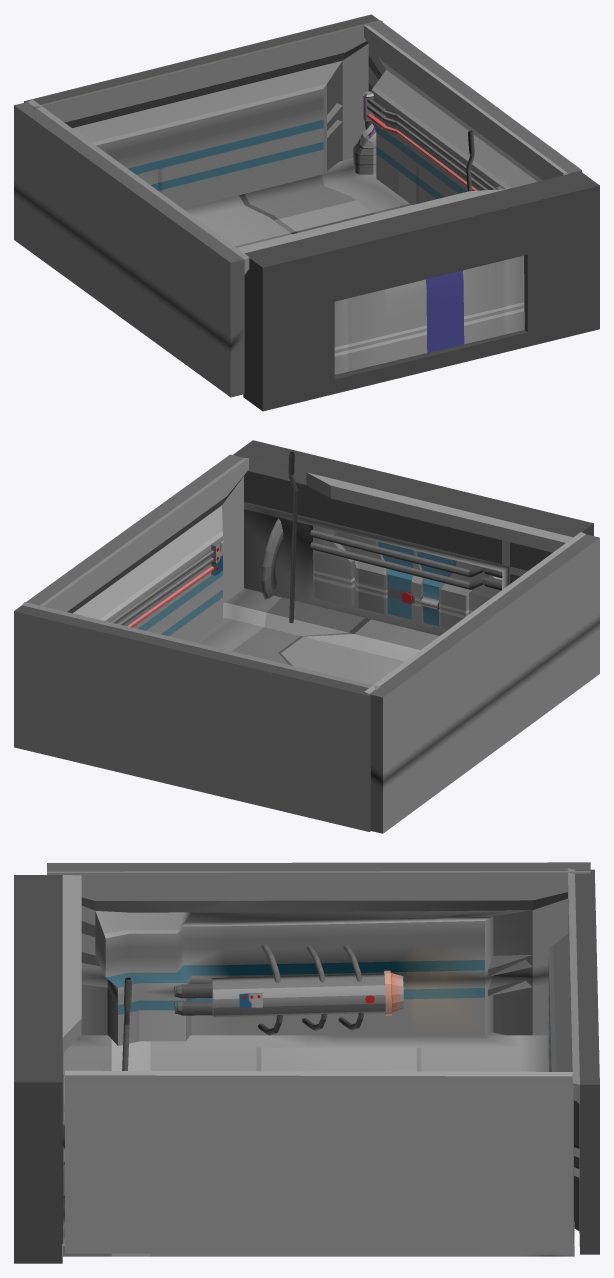
Rendered from LVL1.fbx.
3 renders of one model, top to bottom at view 1: azimuth 30°, elevation 25°; view 2: azimuth 150°, elevation 25°; view 3: azimuth 270°, elevation 25°, orthographic. The views are drawn at different scales.
Visible parts, largest first — view 1: polySurface8, pCube40, polySurface10, polySurface11, polySurface5, pCube32; view 2: pCube40, polySurface10, polySurface8, polySurface11, pCube32, polySurface5, pCube20; view 3: polySurface11, polySurface10, polySurface8, pCube32, pCube40, pCube20.
Boxes of the visible parts, <box> form: polySurface8: <box>237,171,599,411</box>; pCube40: <box>24,14,382,208</box>; polySurface10: <box>14,99,249,397</box>; polySurface11: <box>353,22,581,204</box>; polySurface5: <box>334,255,524,374</box>; pCube32: <box>183,158,411,247</box>; pCube40: <box>14,602,380,831</box>; polySurface10: <box>364,532,599,833</box>; polySurface8: <box>233,440,593,635</box>; polySurface11: <box>26,454,248,642</box>; pCube32: <box>195,588,439,684</box>; polySurface5: <box>313,525,501,630</box>; pCube20: <box>288,451,297,622</box>; polySurface11: <box>65,1070,573,1254</box>; polySurface10: <box>47,862,590,1045</box>; polySurface8: <box>14,875,81,1263</box>; pCube32: <box>63,1035,574,1256</box>; pCube40: <box>548,868,599,1254</box>; pCube20: <box>122,977,131,1070</box>.
Bounding box in the file's own units: 1280 × 638 × 1425.
